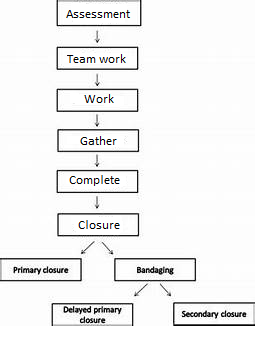arrow: (79, 240, 97, 257), (134, 281, 152, 297), (158, 281, 172, 299), (101, 240, 115, 255), (91, 71, 102, 87), (92, 28, 101, 44), (93, 152, 101, 169), (93, 194, 101, 210), (93, 113, 101, 128)
process: (112, 254, 199, 285), (54, 1, 145, 29), (54, 44, 141, 72), (54, 86, 142, 113), (55, 211, 143, 238), (54, 167, 141, 194), (171, 300, 257, 327), (55, 128, 142, 154), (1, 256, 84, 283), (49, 301, 135, 327)
text: (61, 304, 123, 325), (65, 8, 133, 20), (66, 52, 128, 64), (68, 173, 122, 186), (180, 309, 247, 319), (76, 218, 123, 231), (12, 265, 69, 275), (79, 135, 119, 147), (135, 265, 176, 276), (82, 92, 116, 105)
